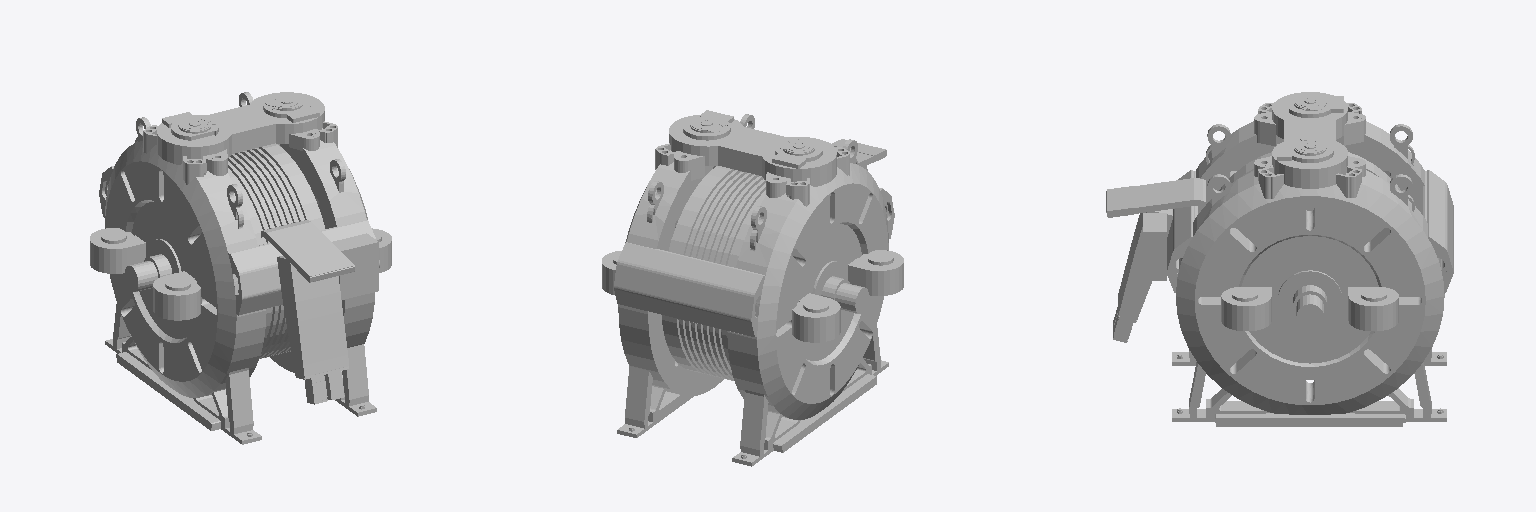
File: yyf_after.obj
3 views of the same model, side by side, from view 1: azimuth 30°, elevation 25°; view 2: azimuth 150°, elevation 25°; view 3: azimuth 270°, elevation 25° (orthographic).
Visible parts, largest first — view 1: _____________________3332_, _____________________2992_, _______3485_, _____________________4299_, _______3817_, _______3466_, _______3459_, _______4840_, _______4792_, _____________________4744_, _______3087_, _____________________4301_ (+3 smaller); view 2: _____________________3332_, _____________________2992_, _______3385_, _____________________4299_, _______4840_, _______4754_, _______3049_, _____________________4744_, _____________________4301_, _______4876_, _____________________4300_, _______3171_ (+1 smaller); view 3: _____________________3332_, _____________________4299_, _______3466_, _______3135_, _______3385_, _______3485_, _____________________3334_, _______3459_, _______3817_, _______3171_, _______3099_, _______3256_ (+6 smaller).
Boxes of the visible parts, x1=… form: _____________________3332_: x1=90, y1=128, x2=391, y2=397; _____________________2992_: x1=228, y1=143, x2=324, y2=358; _______3485_: x1=277, y1=256, x2=348, y2=379; _____________________4299_: x1=157, y1=92, x2=324, y2=164; _______3817_: x1=228, y1=220, x2=379, y2=315; _______3466_: x1=261, y1=220, x2=354, y2=282; _______3459_: x1=332, y1=233, x2=378, y2=299; _______4840_: x1=116, y1=352, x2=220, y2=430; _______4792_: x1=225, y1=368, x2=253, y2=427; _____________________4744_: x1=125, y1=254, x2=171, y2=291; _______3087_: x1=342, y1=344, x2=368, y2=399; _____________________4301_: x1=263, y1=94, x2=319, y2=122; _____________________3332_: x1=602, y1=114, x2=903, y2=419; _____________________2992_: x1=662, y1=166, x2=765, y2=380; _______3385_: x1=614, y1=242, x2=765, y2=336; _____________________4299_: x1=669, y1=115, x2=836, y2=186; _______4840_: x1=773, y1=374, x2=876, y2=452; _______4754_: x1=740, y1=390, x2=768, y2=449; _______3049_: x1=625, y1=366, x2=652, y2=421; _____________________4744_: x1=821, y1=276, x2=868, y2=313; _____________________4301_: x1=683, y1=110, x2=733, y2=140; _______4876_: x1=764, y1=412, x2=800, y2=450; _____________________4300_: x1=772, y1=139, x2=822, y2=168; _______3171_: x1=648, y1=386, x2=682, y2=421; _____________________3332_: x1=1176, y1=121, x2=1444, y2=414; _____________________4299_: x1=1272, y1=92, x2=1347, y2=188; _______3466_: x1=1106, y1=178, x2=1205, y2=217; _______3135_: x1=1215, y1=413, x2=1405, y2=426; _______3385_: x1=1423, y1=170, x2=1453, y2=292; _______3485_: x1=1118, y1=209, x2=1172, y2=322; _____________________3334_: x1=1278, y1=270, x2=1342, y2=329; _______3459_: x1=1143, y1=213, x2=1166, y2=280; _______3817_: x1=1167, y1=170, x2=1197, y2=292; _______3171_: x1=1350, y1=388, x2=1413, y2=417; _______3099_: x1=1206, y1=389, x2=1269, y2=417; _______3256_: x1=1296, y1=294, x2=1323, y2=328.
Bounding box in the file's own units: 3 × 3.29 × 3.89.